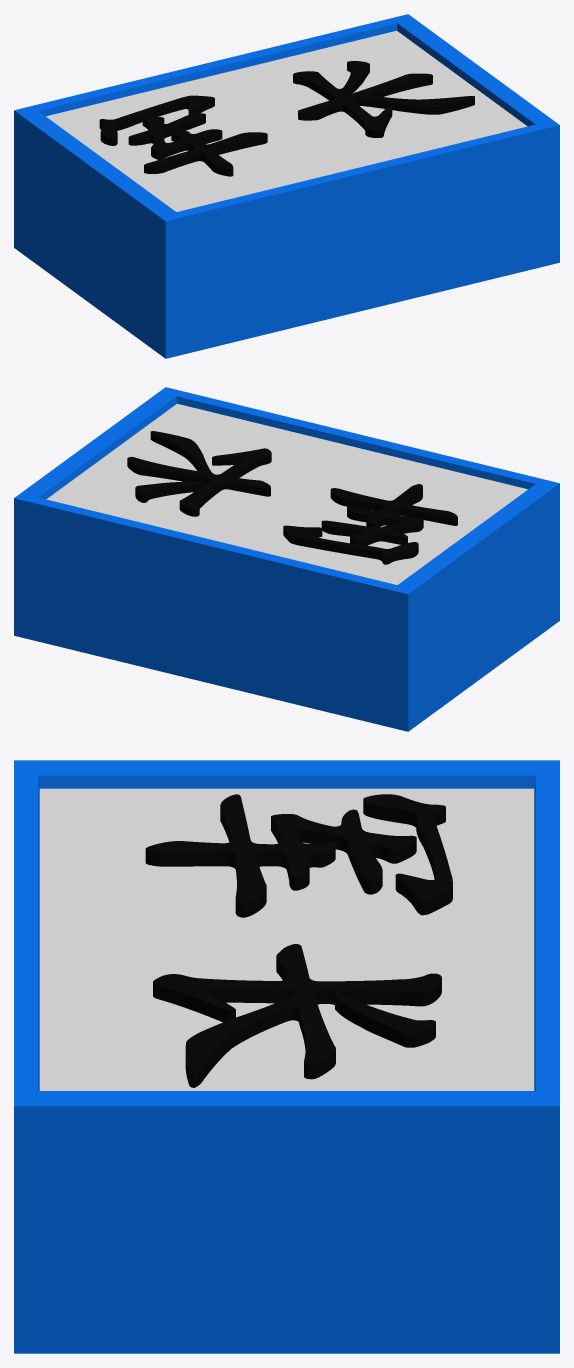
Rendered from 2_jun_zhang.fbx.
3 renders of one model, top to bottom at view 1: azimuth 30°, elevation 25°; view 2: azimuth 150°, elevation 25°; view 3: azimuth 270°, elevation 25°, orthographic. The views are drawn at different scales.
Visible parts, largest first — view 1: Cube, 文本; view 2: Cube, 文本; view 3: Cube, 文本.
Part boxes in pixels (<box>): Cube: <box>14,14,559,358</box>; 文本: <box>99,61,474,176</box>; Cube: <box>14,387,559,731</box>; 文本: <box>127,431,457,564</box>; Cube: <box>14,760,559,1353</box>; 文本: <box>145,794,452,1087</box>.
Bounding box in the file's own units: 240 × 80.47 × 160.
